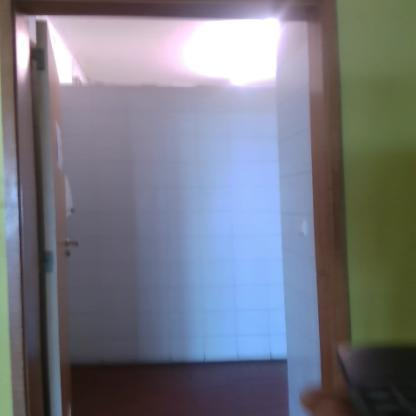open: (3, 1, 356, 416)
